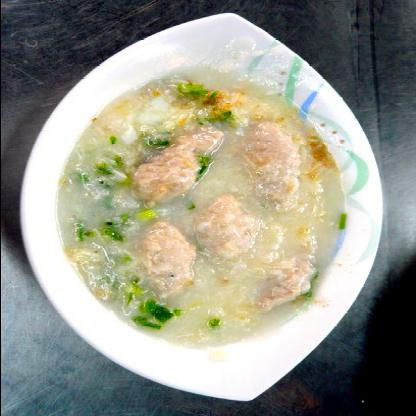Joke: (40, 55, 348, 367)
